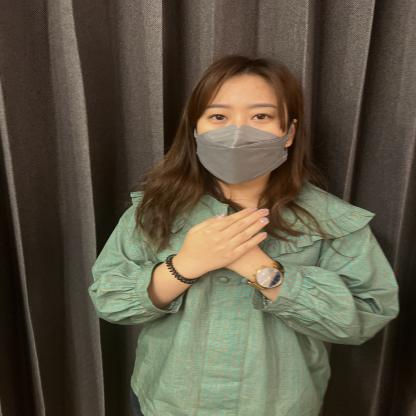Grieve: (70, 172, 336, 294)
